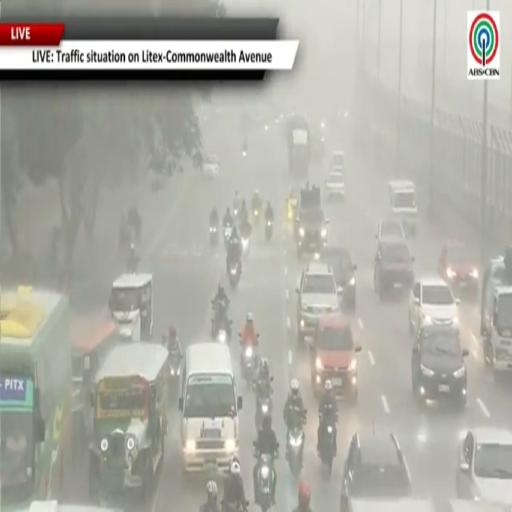bus: (0, 287, 71, 510)
car: (340, 426, 411, 511), (456, 427, 511, 506), (312, 314, 361, 402), (412, 330, 468, 406), (297, 262, 339, 343), (409, 277, 459, 334), (374, 238, 414, 298), (438, 242, 479, 300), (322, 246, 356, 312), (388, 180, 417, 235), (349, 499, 447, 511), (437, 500, 510, 511), (415, 325, 459, 341), (376, 219, 405, 242), (325, 170, 345, 200), (203, 154, 219, 178), (330, 151, 344, 171)
jeepney: (90, 343, 168, 503), (72, 317, 125, 458), (109, 274, 153, 341), (27, 501, 122, 511)
motorcycle: (255, 453, 275, 511), (287, 425, 304, 476), (319, 421, 335, 474), (239, 333, 255, 385), (212, 310, 232, 343), (255, 395, 272, 430), (169, 355, 181, 394), (228, 259, 241, 290), (169, 355, 181, 381), (127, 252, 140, 274), (221, 501, 248, 511), (209, 225, 219, 246), (216, 328, 229, 343), (224, 224, 232, 248), (241, 237, 249, 258), (265, 220, 272, 242), (254, 207, 259, 223)
truck: (481, 258, 511, 372), (295, 186, 328, 257), (287, 115, 311, 177)
